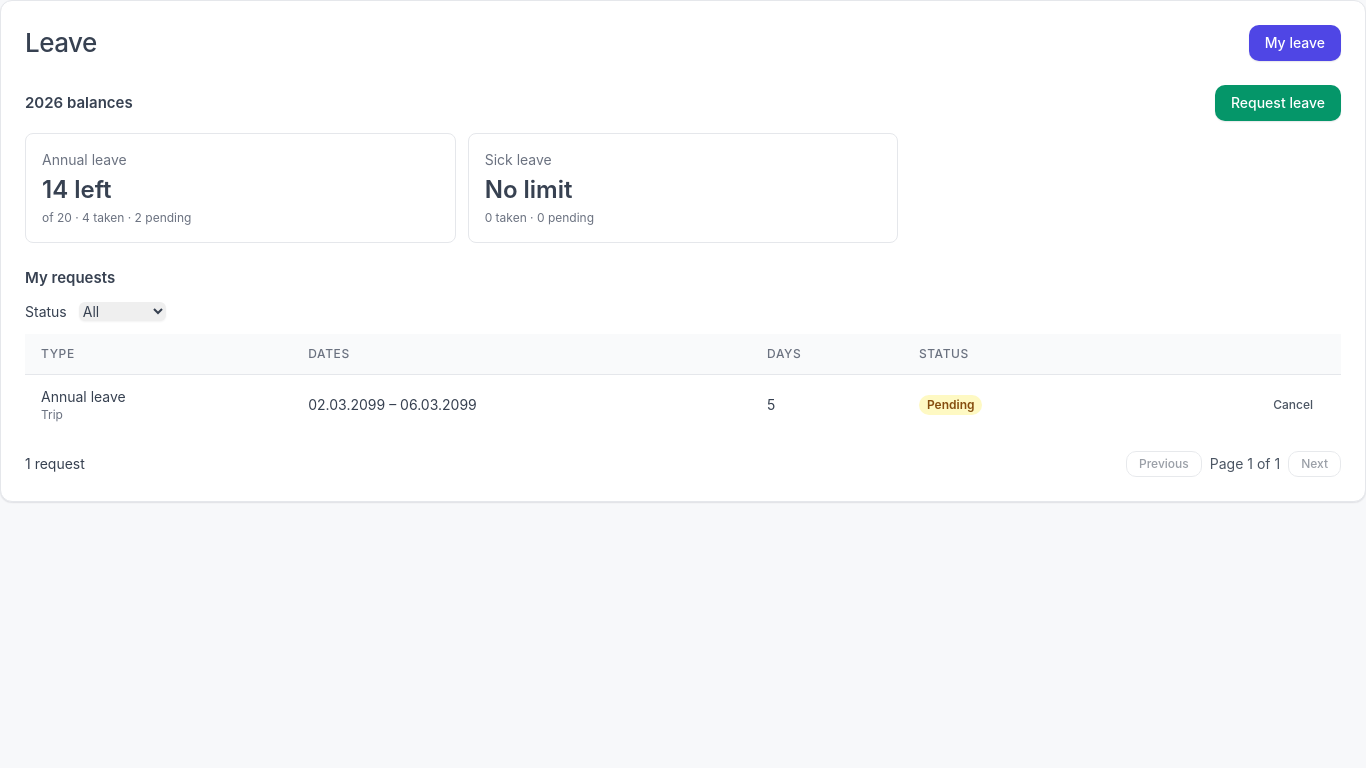
Leave page › lets an employee cancel a pending request
Click the button "Cancel".
click(1293, 404)  # box [1261,392,1325,416]
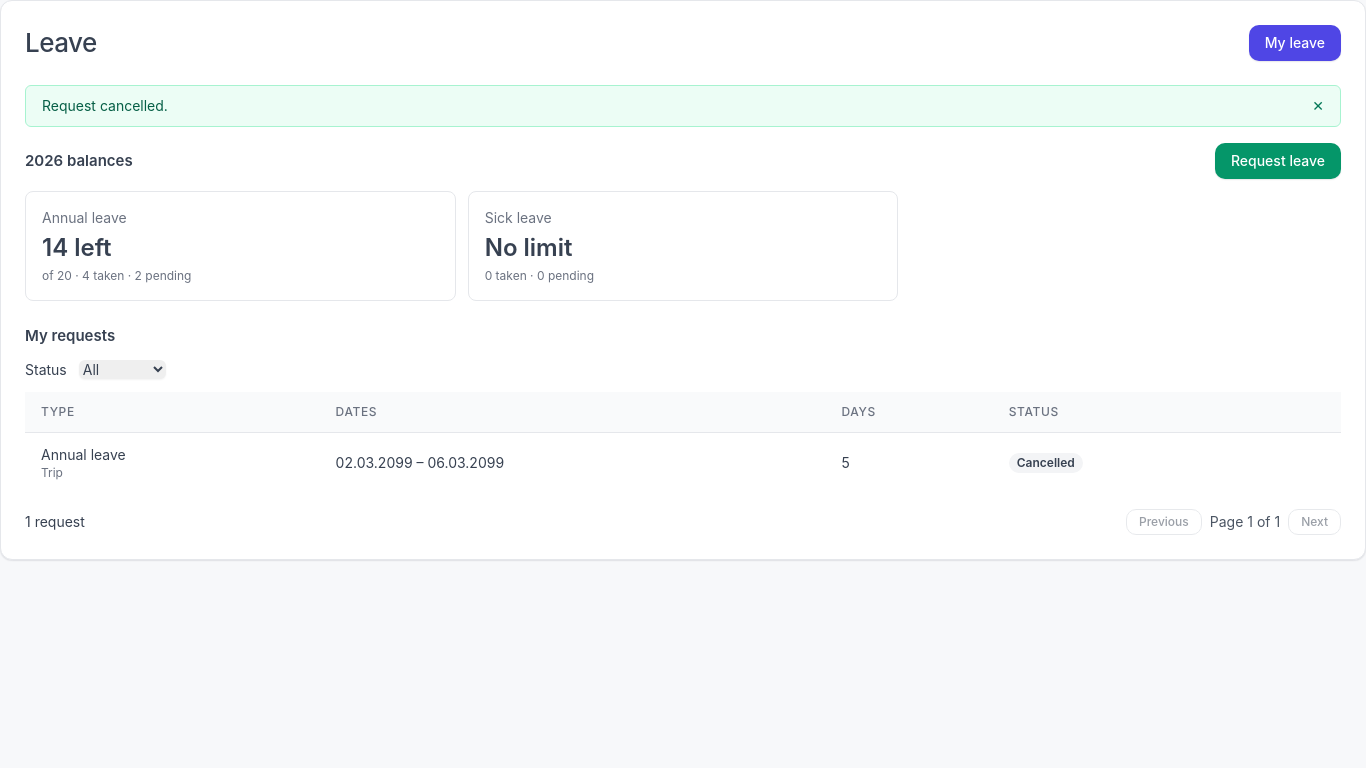
Check: the message shows "Request cancelled", box [42,97,168,114]
